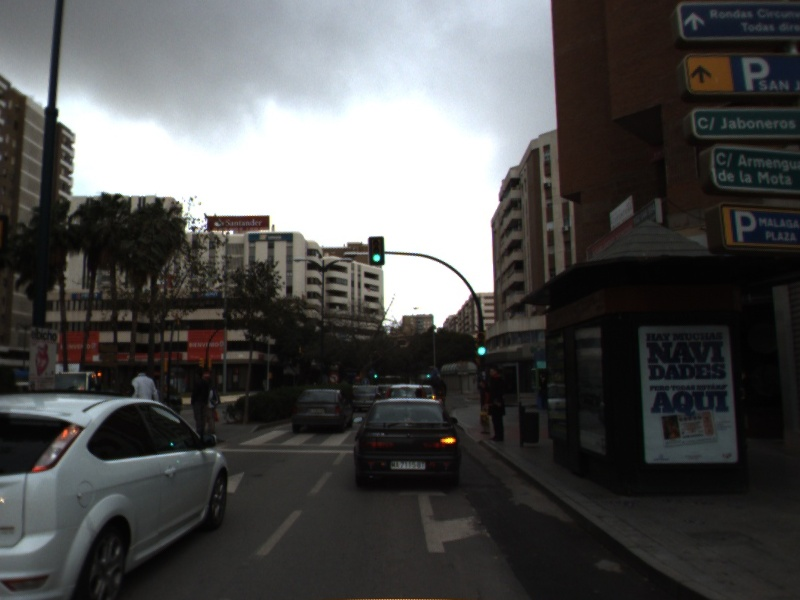STRAIGHT_RIGHT: (396, 488, 492, 555)
